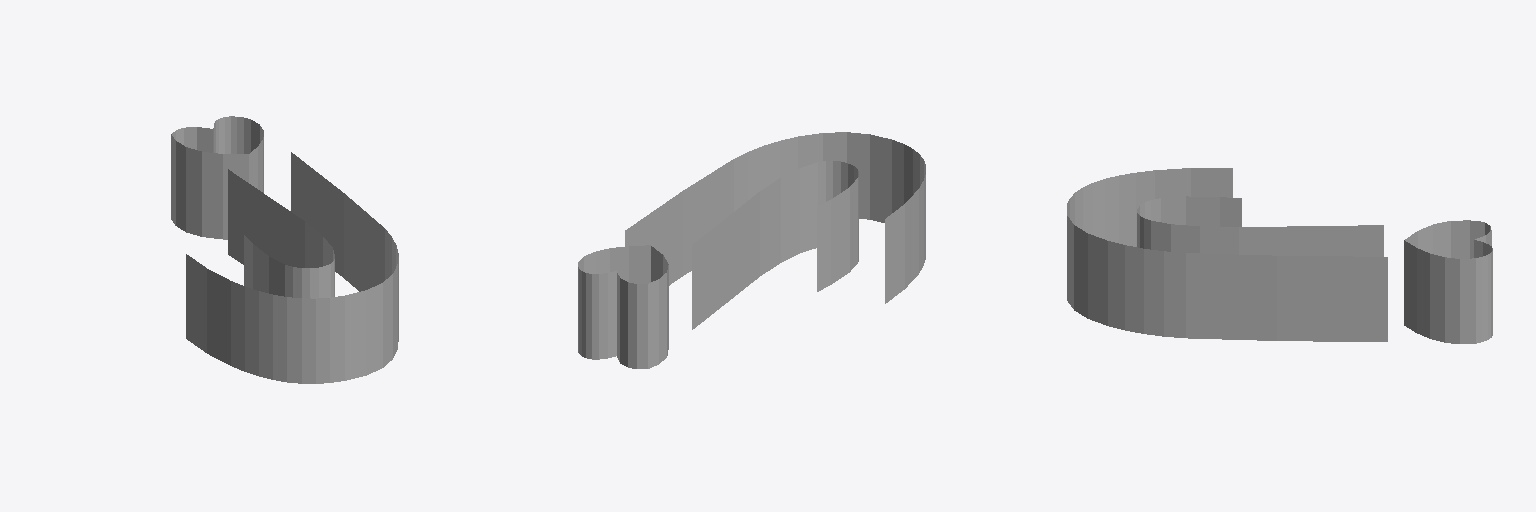
File: j1_chrome.obj
The picture shows the model from 3 angles: view 1: azimuth 30°, elevation 25°; view 2: azimuth 150°, elevation 25°; view 3: azimuth 270°, elevation 25°; orthographic projection.
Bounding box in the file's own units: 0.5738 × 0.25 × 1.13.